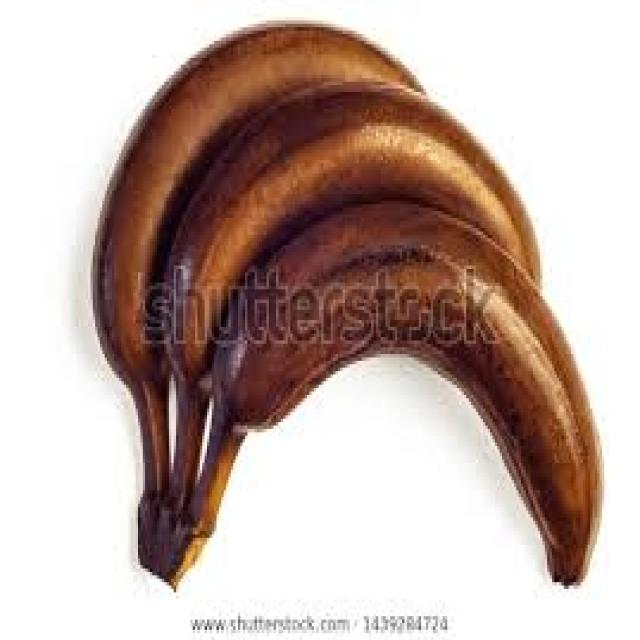biodegradable: (155, 72, 540, 565), (91, 17, 421, 562), (164, 194, 600, 582)
